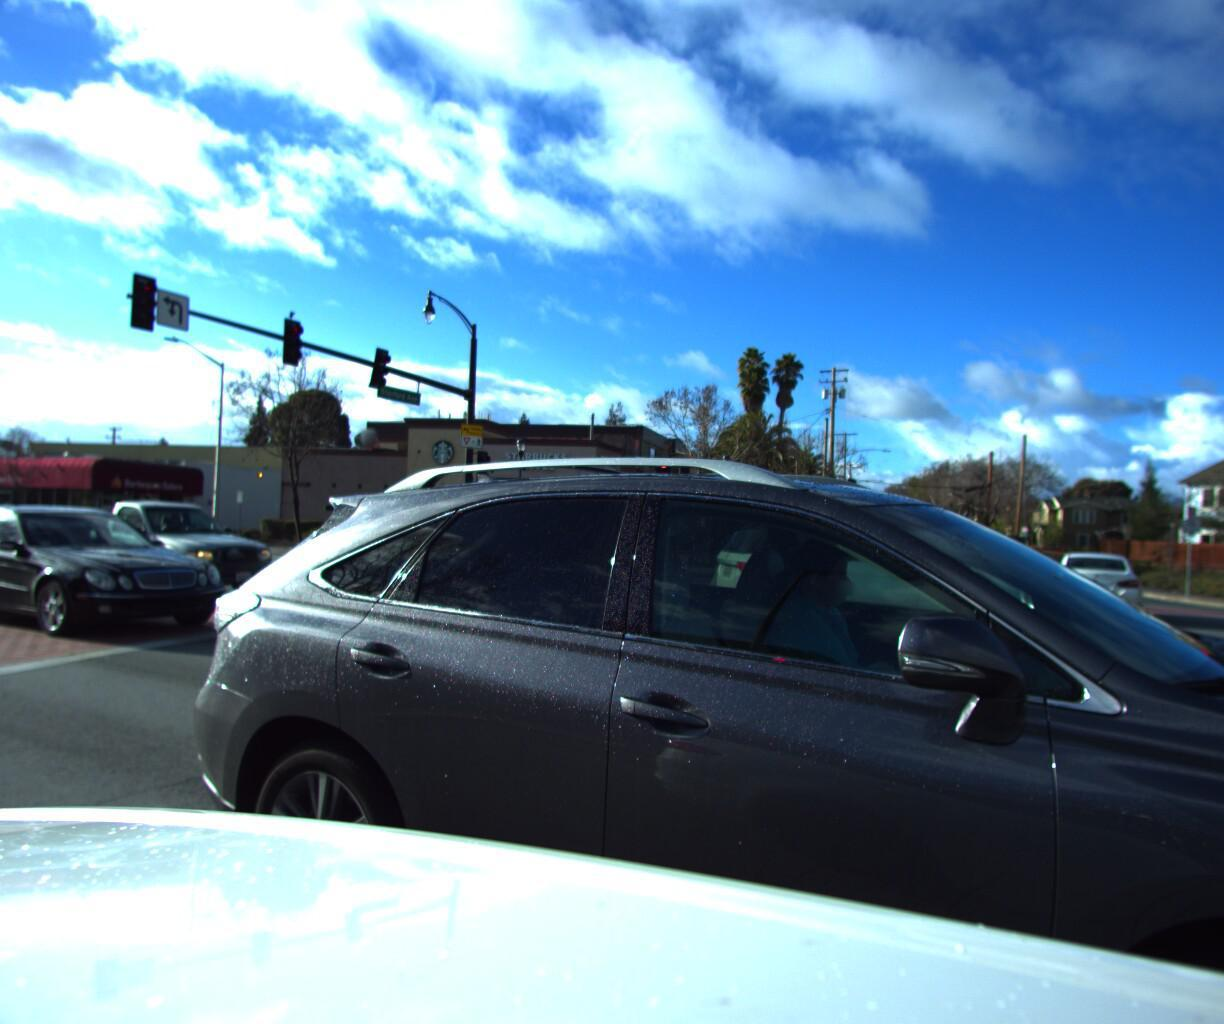car: (109, 398, 1224, 1024), (726, 513, 1097, 642), (0, 498, 253, 655), (21, 489, 298, 606), (1039, 547, 1143, 623), (964, 523, 1038, 580), (889, 526, 958, 581), (940, 533, 973, 558)
